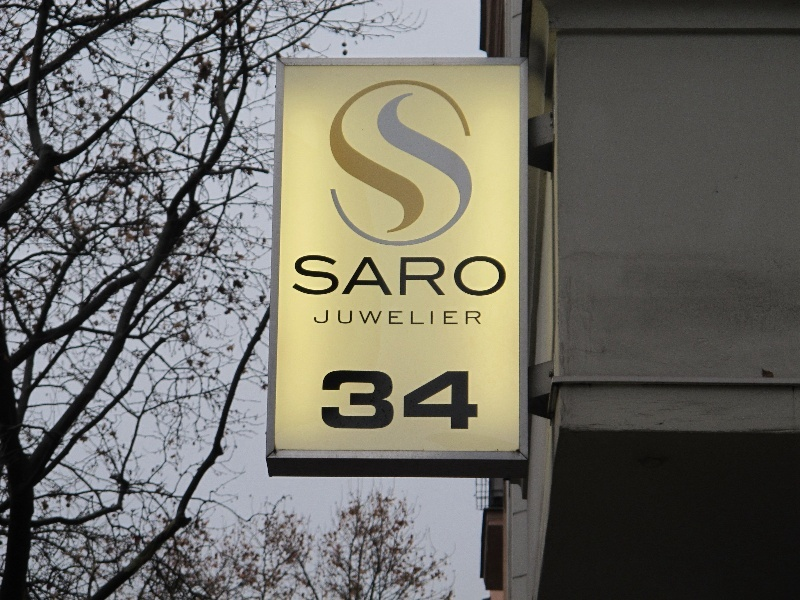text: (337, 370, 352, 430), (353, 370, 368, 430), (369, 370, 384, 430), (385, 370, 400, 430), (401, 370, 416, 430), (417, 370, 432, 430), (433, 370, 448, 430), (449, 370, 464, 430), (322, 370, 336, 430), (465, 370, 479, 430), (305, 254, 320, 298), (321, 254, 336, 298), (337, 254, 352, 298), (353, 254, 368, 298), (369, 254, 384, 298), (385, 254, 400, 298), (401, 254, 416, 298), (417, 254, 432, 298), (433, 254, 448, 298), (449, 254, 464, 298), (465, 254, 480, 298), (481, 254, 496, 298), (292, 254, 304, 298), (497, 254, 508, 298), (321, 309, 336, 325), (337, 309, 352, 325), (353, 309, 368, 325), (369, 309, 384, 325), (385, 309, 400, 325), (401, 309, 416, 325), (417, 309, 432, 325), (433, 309, 448, 325), (449, 309, 464, 325), (465, 309, 480, 325), (314, 309, 320, 325), (481, 309, 482, 325)
